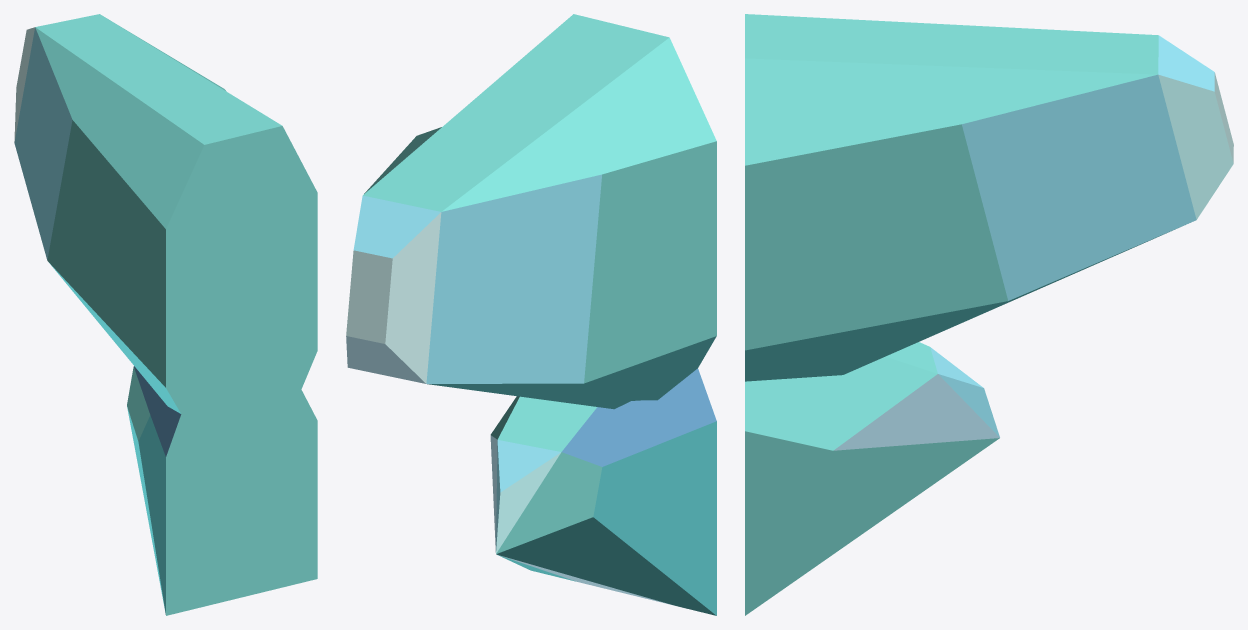
Rendered from winter_cube_4.fbx.
3 views of the same model, side by side, from view 1: azimuth 30°, elevation 25°; view 2: azimuth 150°, elevation 25°; view 3: azimuth 270°, elevation 25° (orthographic). The views are drawn at different scales.
Parts seen in each view (by area): view 1: winter_cube_4; view 2: winter_cube_4; view 3: winter_cube_4.
Part boxes in pixels (<box>): winter_cube_4: <box>14,14,317,615</box>; winter_cube_4: <box>346,14,716,615</box>; winter_cube_4: <box>745,14,1233,615</box>.
Size of the model in its own units: 81.57 by 229 by 189.
